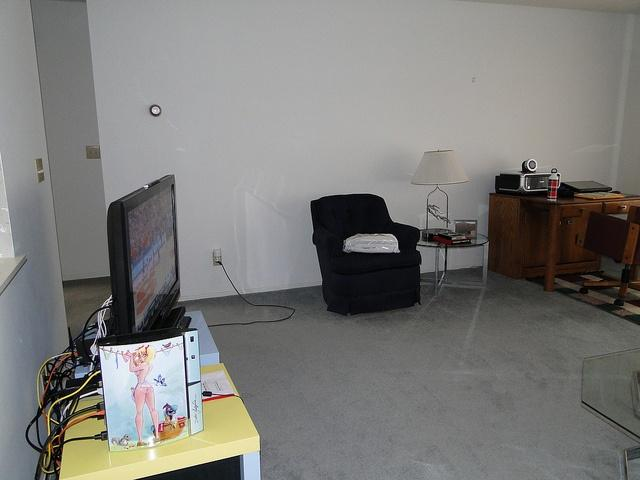AIO PC-Monitor-TV: (106, 172, 191, 335)
Printer: (493, 171, 561, 194)
